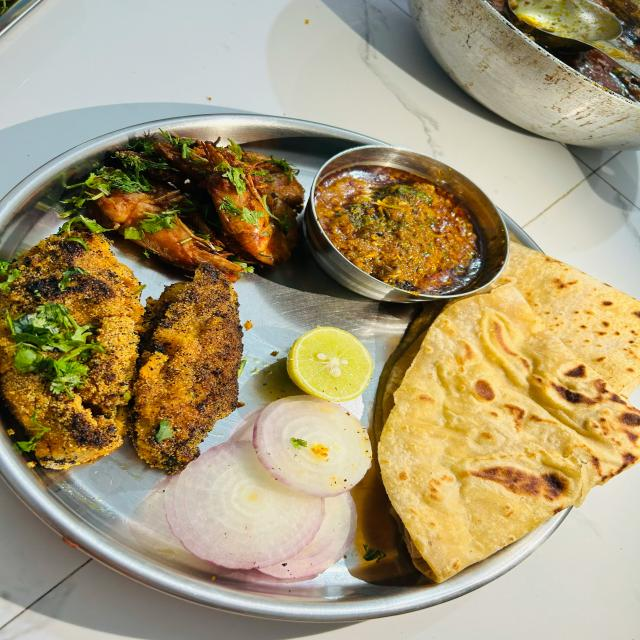Chapati: (387, 297, 636, 575)
Chicken Curry: (311, 143, 511, 300)
Salad: (4, 223, 235, 469)
